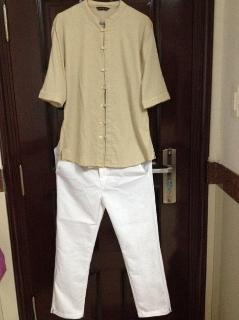short sleeve top: (38, 0, 171, 168)
trousers: (51, 146, 172, 319)
